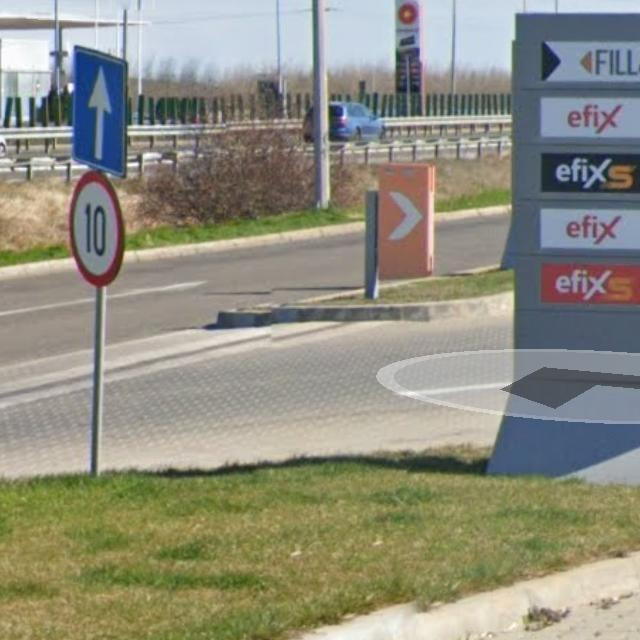forb_speed_over_10: (70, 171, 126, 286)
